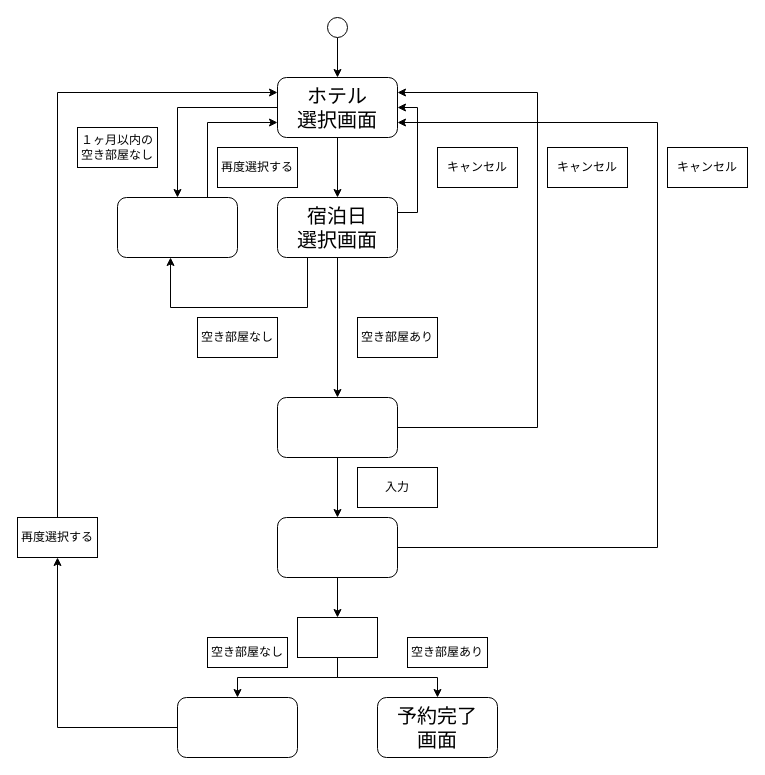
The diagram is 765 pixels wide and 775 high, and some of its shapes have lost their labels. Each missing label, with the centre of its shape:
"ホテル予約失敗画面" goes at pixel 237 727.
"宿泊日選択失敗画面" goes at pixel 177 227.
"宿泊者情報入力画面" goes at pixel 337 427.
"最終確認 画面" goes at pixel 337 547.
"確定ボタン" goes at pixel 337 637.
